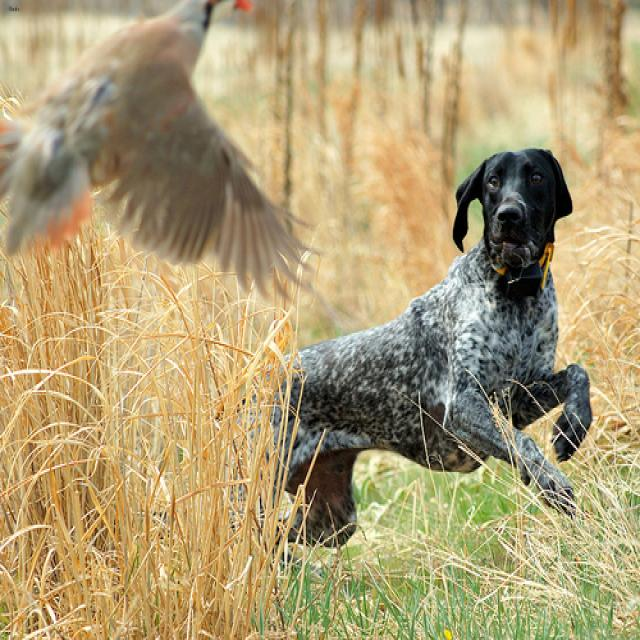dog-german_shorthaired: (221, 138, 594, 574)
